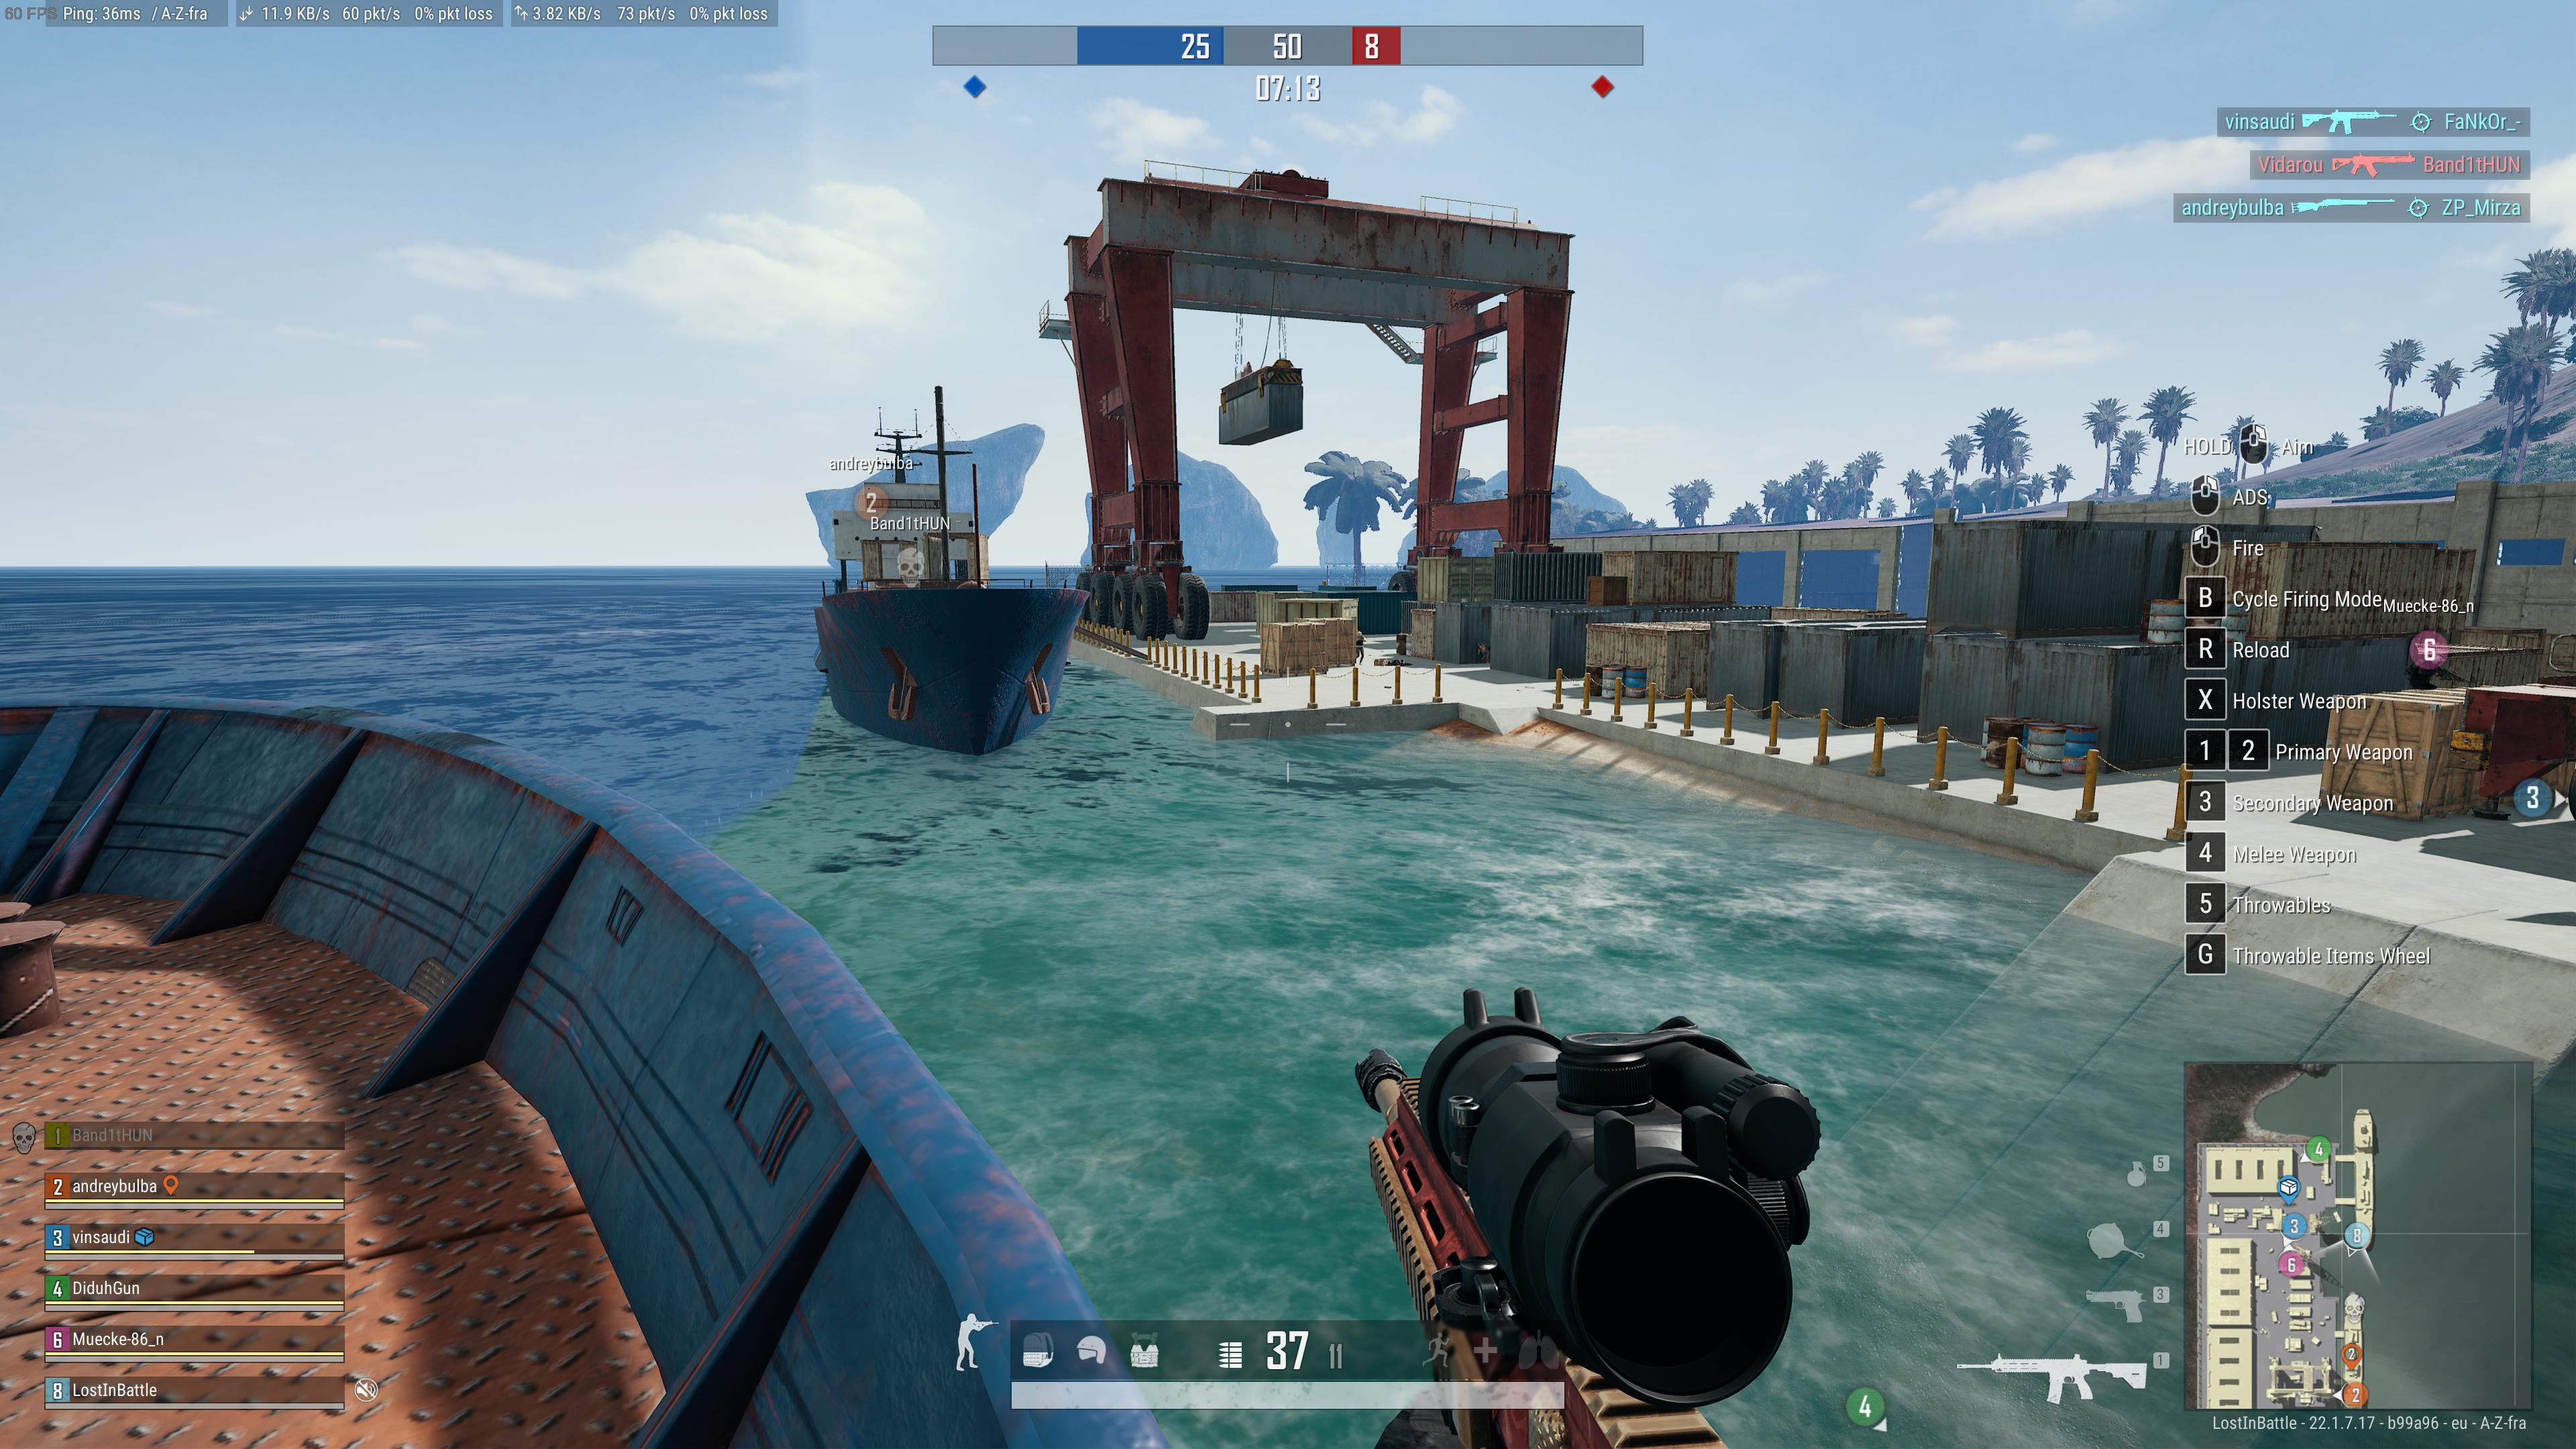enemy: (1353, 630, 1366, 665), (1476, 642, 1490, 663)
enemy_head: (1355, 630, 1362, 637), (1477, 642, 1483, 649)
